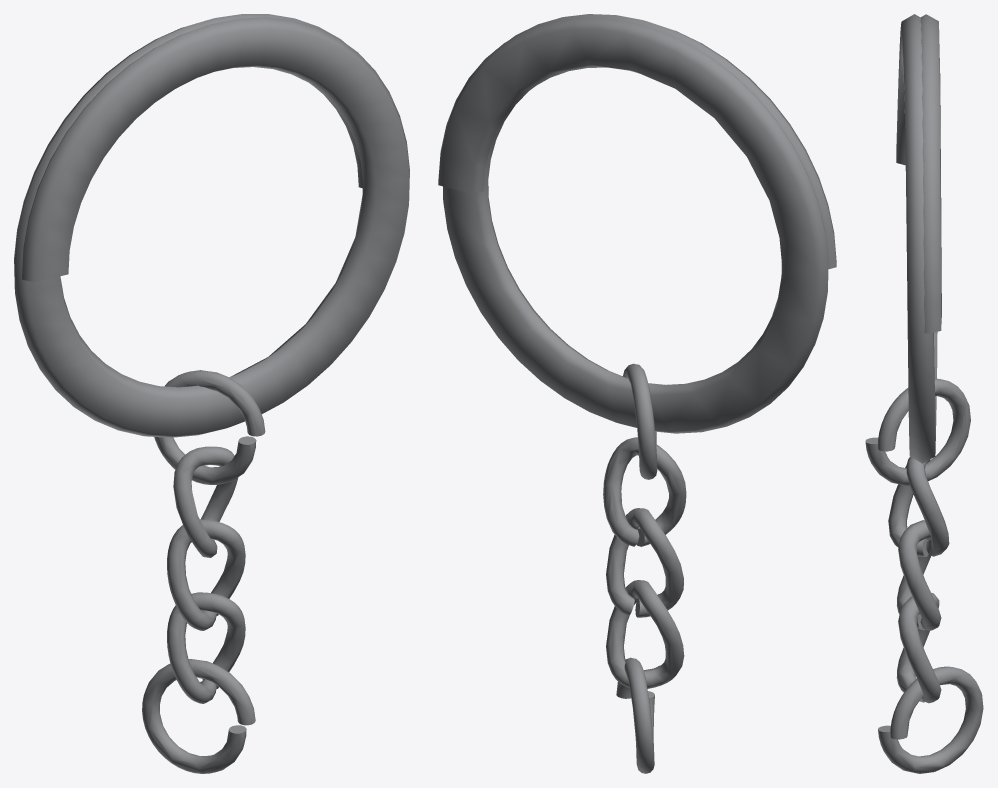
The model's file is mdl_franch_rave_keychain.gltf.
3 renders of one model, left to right at view 1: azimuth 30°, elevation 25°; view 2: azimuth 150°, elevation 25°; view 3: azimuth 270°, elevation 25°, orthographic.
Parts seen in each view (by area): view 1: Spring2_low; view 2: Spring2_low; view 3: Spring2_low.
Boxes of the visible parts, x1,y1,x2,y2 form: Spring2_low: [14, 14, 409, 773]; Spring2_low: [438, 14, 836, 773]; Spring2_low: [865, 14, 983, 773].
Bounding box in the file's own units: 0.2133 × 0.3887 × 0.0559.
1 material, 1 textured.
